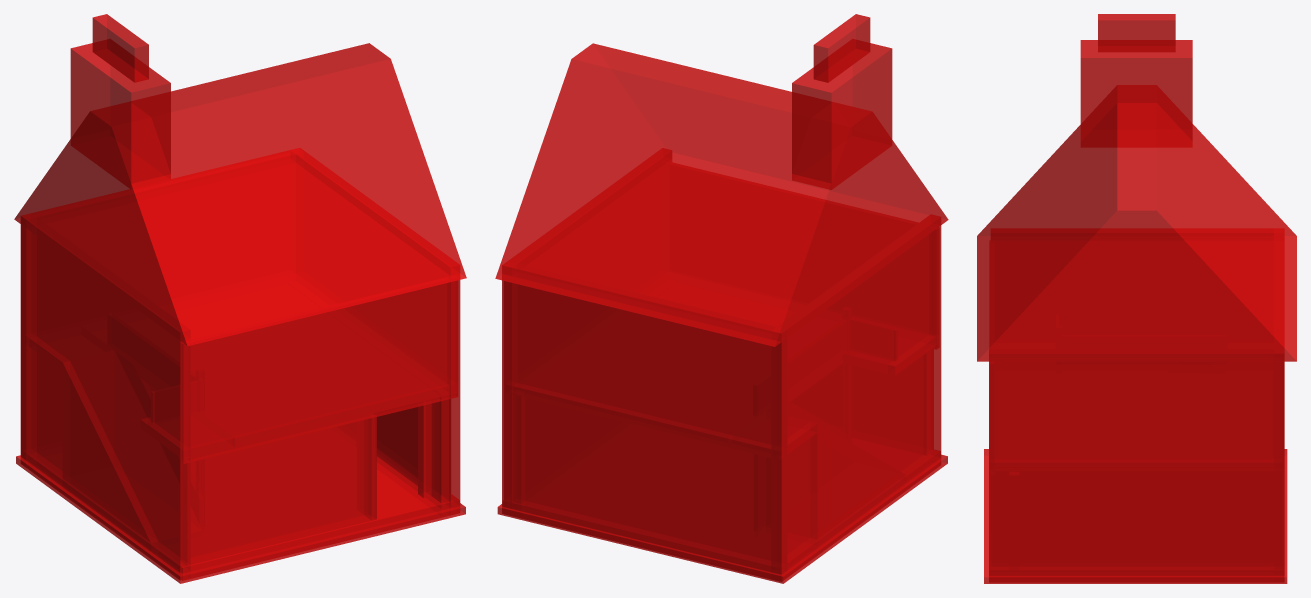
File: SM_Bld_City_Preset_03_Collision.fbx
The picture shows the model from 3 angles, left to right: view 1: azimuth 30°, elevation 25°; view 2: azimuth 150°, elevation 25°; view 3: azimuth 270°, elevation 25°; orthographic projection. The views are drawn at different scales.
Parts seen in each view (by area): view 1: SM_Bld_City_Preset_03_Collision; view 2: SM_Bld_City_Preset_03_Collision; view 3: SM_Bld_City_Preset_03_Collision.
Part boxes in pixels (x1,y1,x2,y2): SM_Bld_City_Preset_03_Collision: (14, 14, 466, 583); SM_Bld_City_Preset_03_Collision: (495, 14, 948, 583); SM_Bld_City_Preset_03_Collision: (977, 14, 1296, 583).
Size of the model in its own units: 776 by 1264 by 817.
